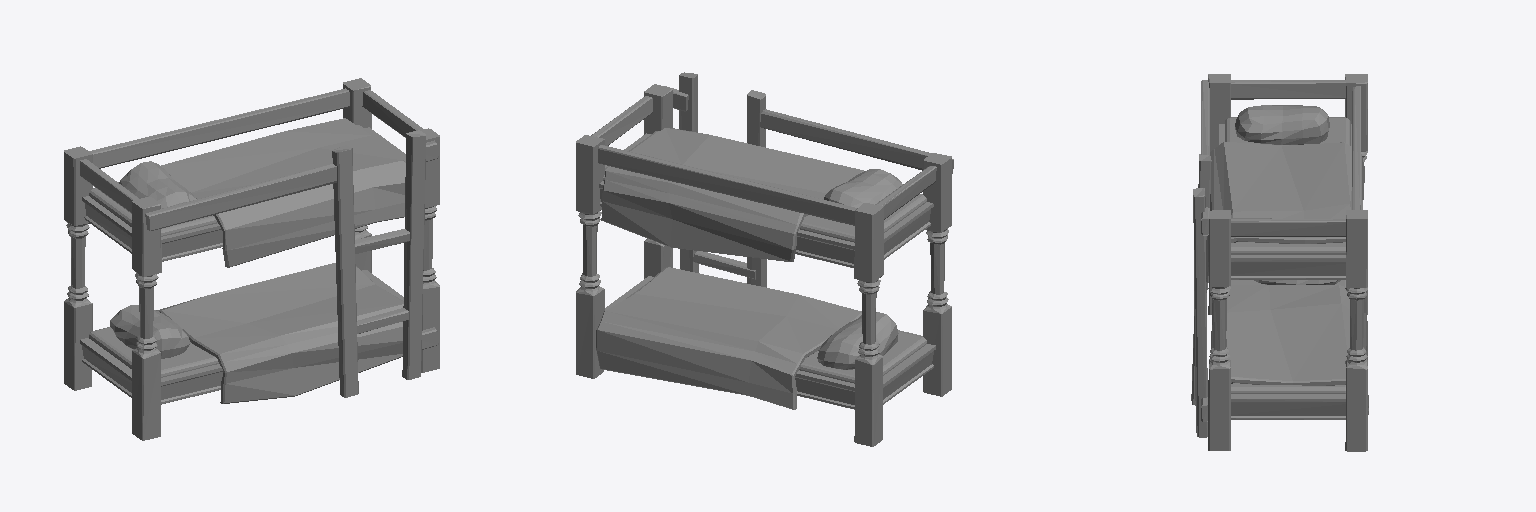
File: Bed_B.obj
The picture shows the model from 3 angles: view 1: azimuth 30°, elevation 25°; view 2: azimuth 150°, elevation 25°; view 3: azimuth 270°, elevation 25°; orthographic projection.
Visible parts, largest first — view 1: Bed_B; view 2: Bed_B; view 3: Bed_B.
Part boxes in pixels (bbox=[...]): Bed_B: bbox=[64, 78, 439, 440]; Bed_B: bbox=[576, 72, 953, 446]; Bed_B: bbox=[1191, 74, 1368, 451].
Bounding box in the file's own units: 233 × 182 × 119.